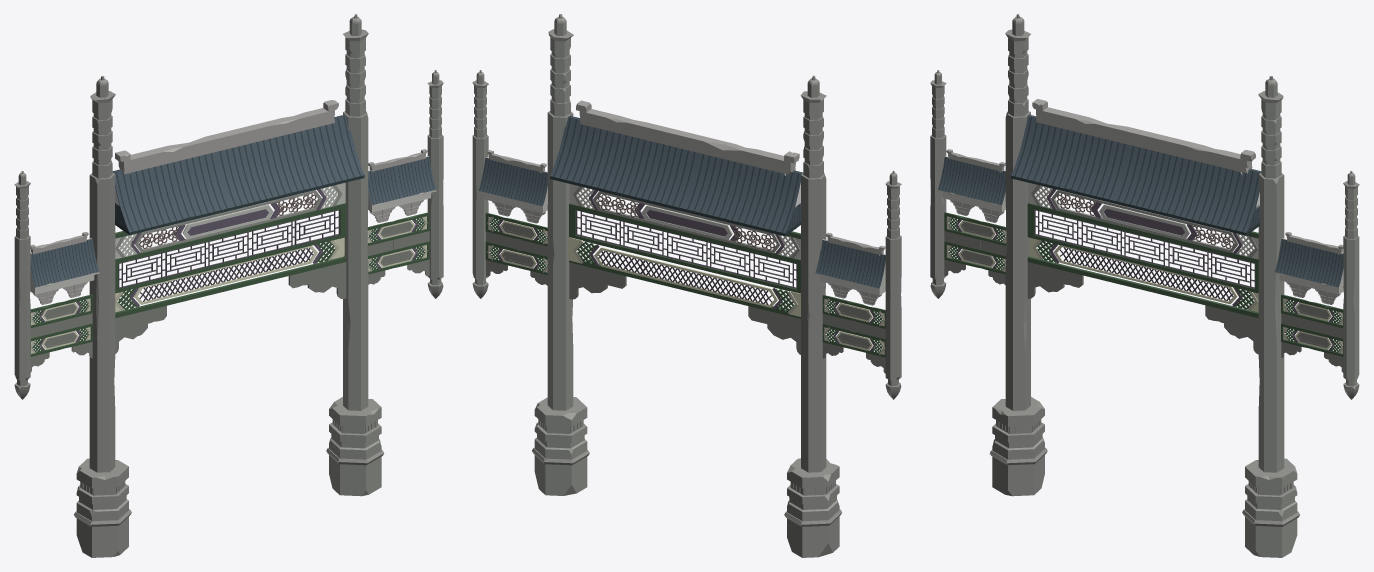
The model's file is SM_Plaque_05.fbx.
The picture shows the model from 3 angles, left to right: view 1: azimuth 30°, elevation 25°; view 2: azimuth 150°, elevation 25°; view 3: azimuth 330°, elevation 25°; orthographic projection.
Visible parts, largest first — view 1: SM_Plaque_5; view 2: SM_Plaque_5; view 3: SM_Plaque_5.
Part boxes in pixels (x1,y1,x2,y2): SM_Plaque_5: [14, 14, 443, 557]; SM_Plaque_5: [472, 14, 901, 557]; SM_Plaque_5: [930, 14, 1359, 557].
Size of the model in its own units: 1030 by 1085 by 149.
